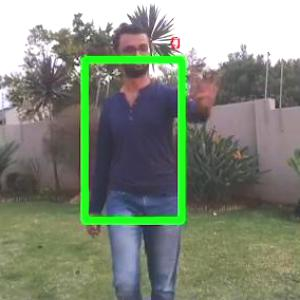takeoff-hand: (184, 61, 229, 111)
